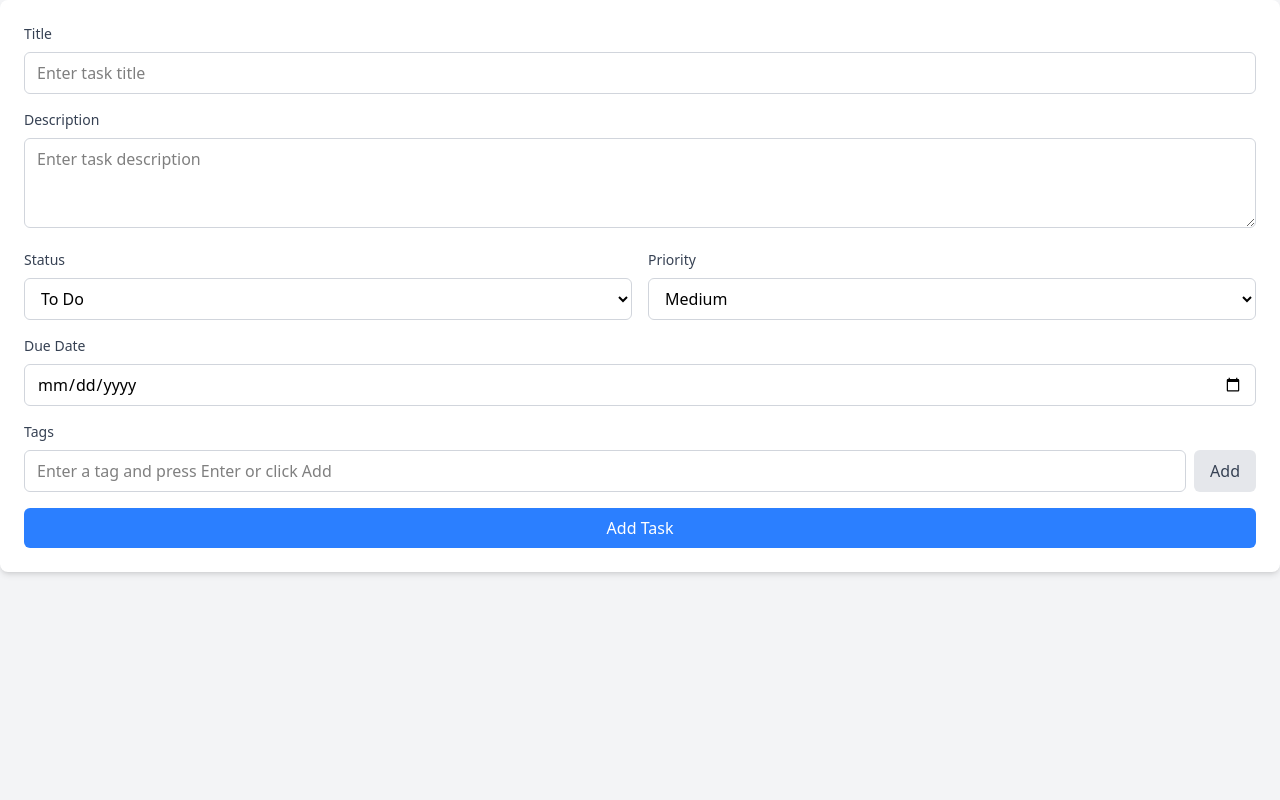
Test: TaskForm › should add tag when Add button is clicked
The image size is (1280, 800).
Type "urgent" into the field labelled "Tags" at (605, 471), box [24, 450, 1186, 492]
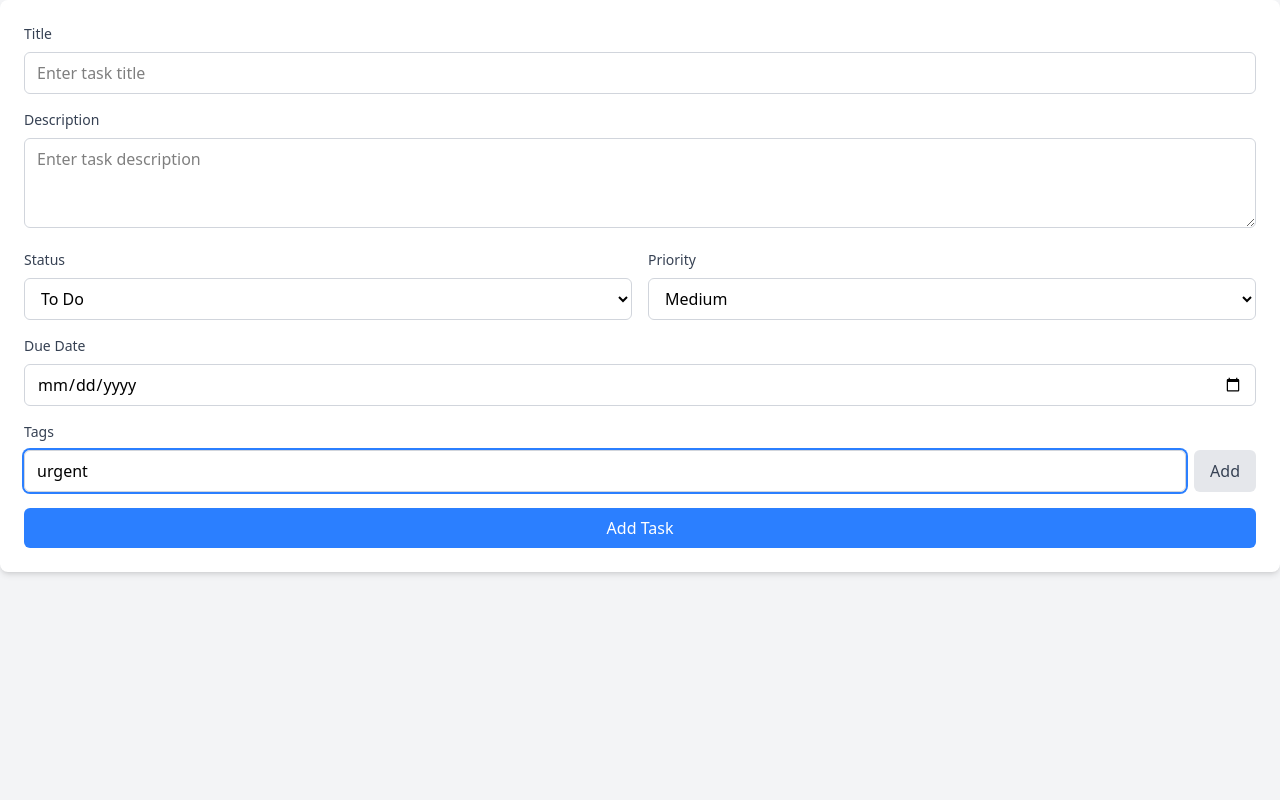
Click the button "Add" at (1225, 471), box [1194, 450, 1256, 492]
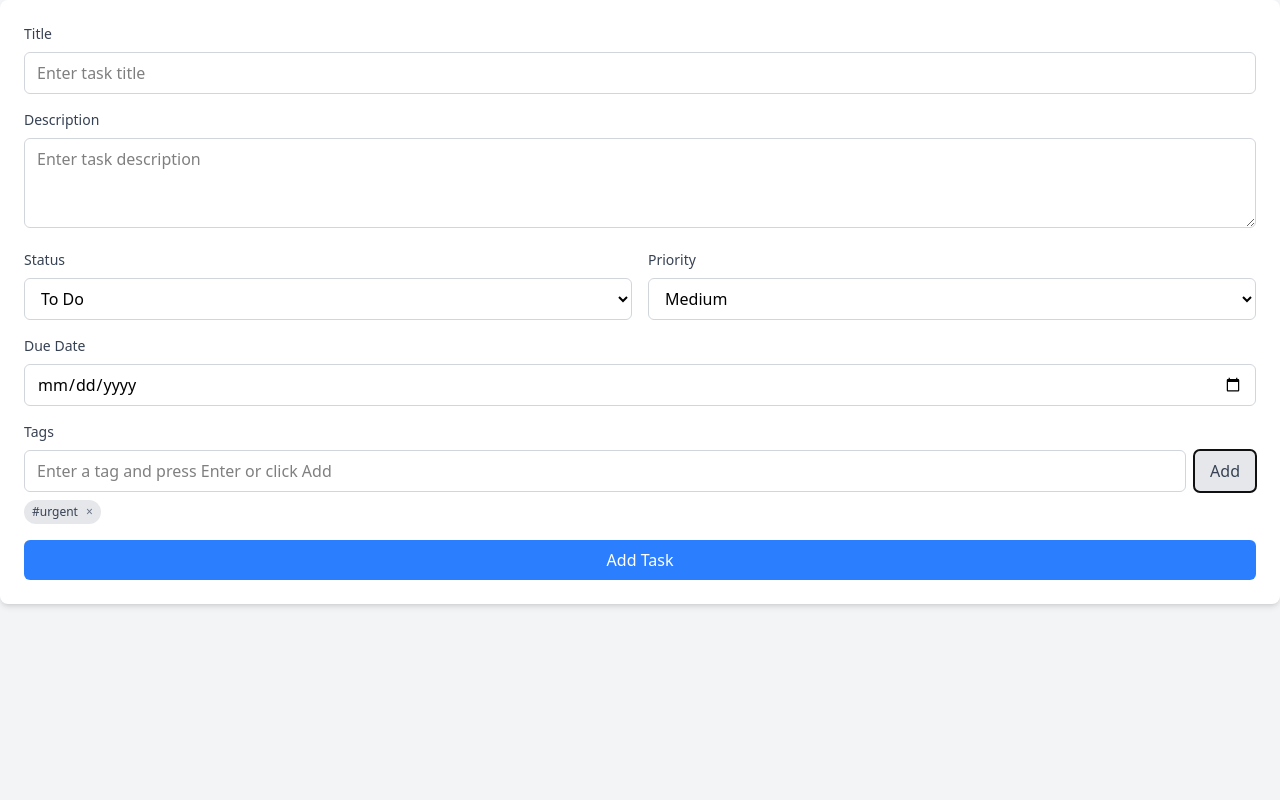
Expected: the text "#urgent" is shown, [24, 500, 101, 524]
Expected: the field labelled "Tags" is empty, [24, 450, 1186, 492]
